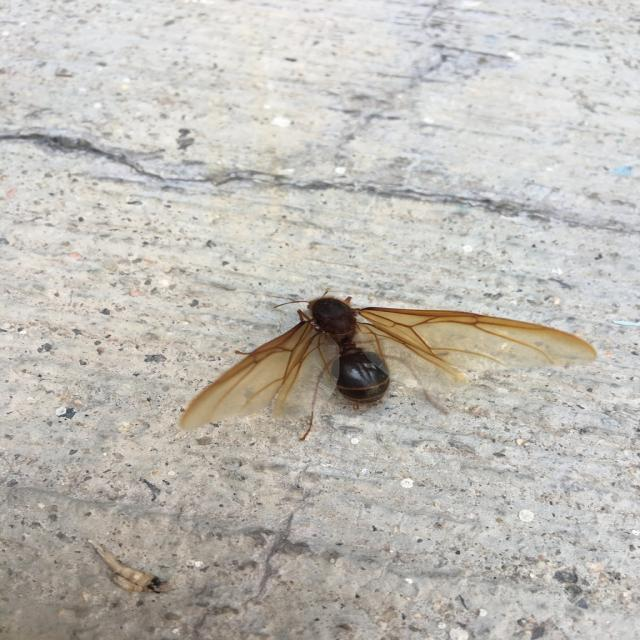Alive-Male-Alate: (178, 287, 598, 441)
